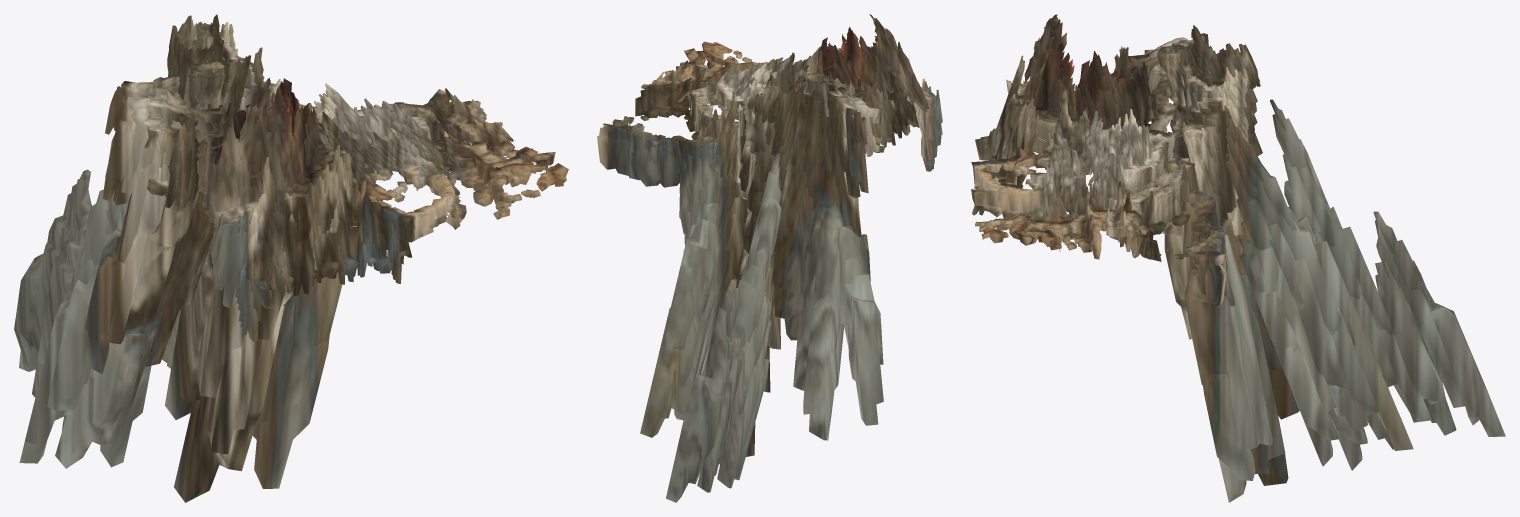
The model's file is tile_-2_5.glb.
3 renders of one model, left to right at view 1: azimuth 30°, elevation 25°; view 2: azimuth 150°, elevation 25°; view 3: azimuth 270°, elevation 25°, orthographic. The views are drawn at different scales.
Visible parts, largest first — view 1: mesh[0].049; view 2: mesh[0].049; view 3: mesh[0].049.
Part boxes in pixels (x1,y1,x2,y2): mesh[0].049: (14, 14, 568, 502); mesh[0].049: (597, 14, 942, 502); mesh[0].049: (971, 14, 1505, 502).
Size of the model in its own units: 1280 by 1570 by 1676.
Materials: 1 (1 with a texture image).
